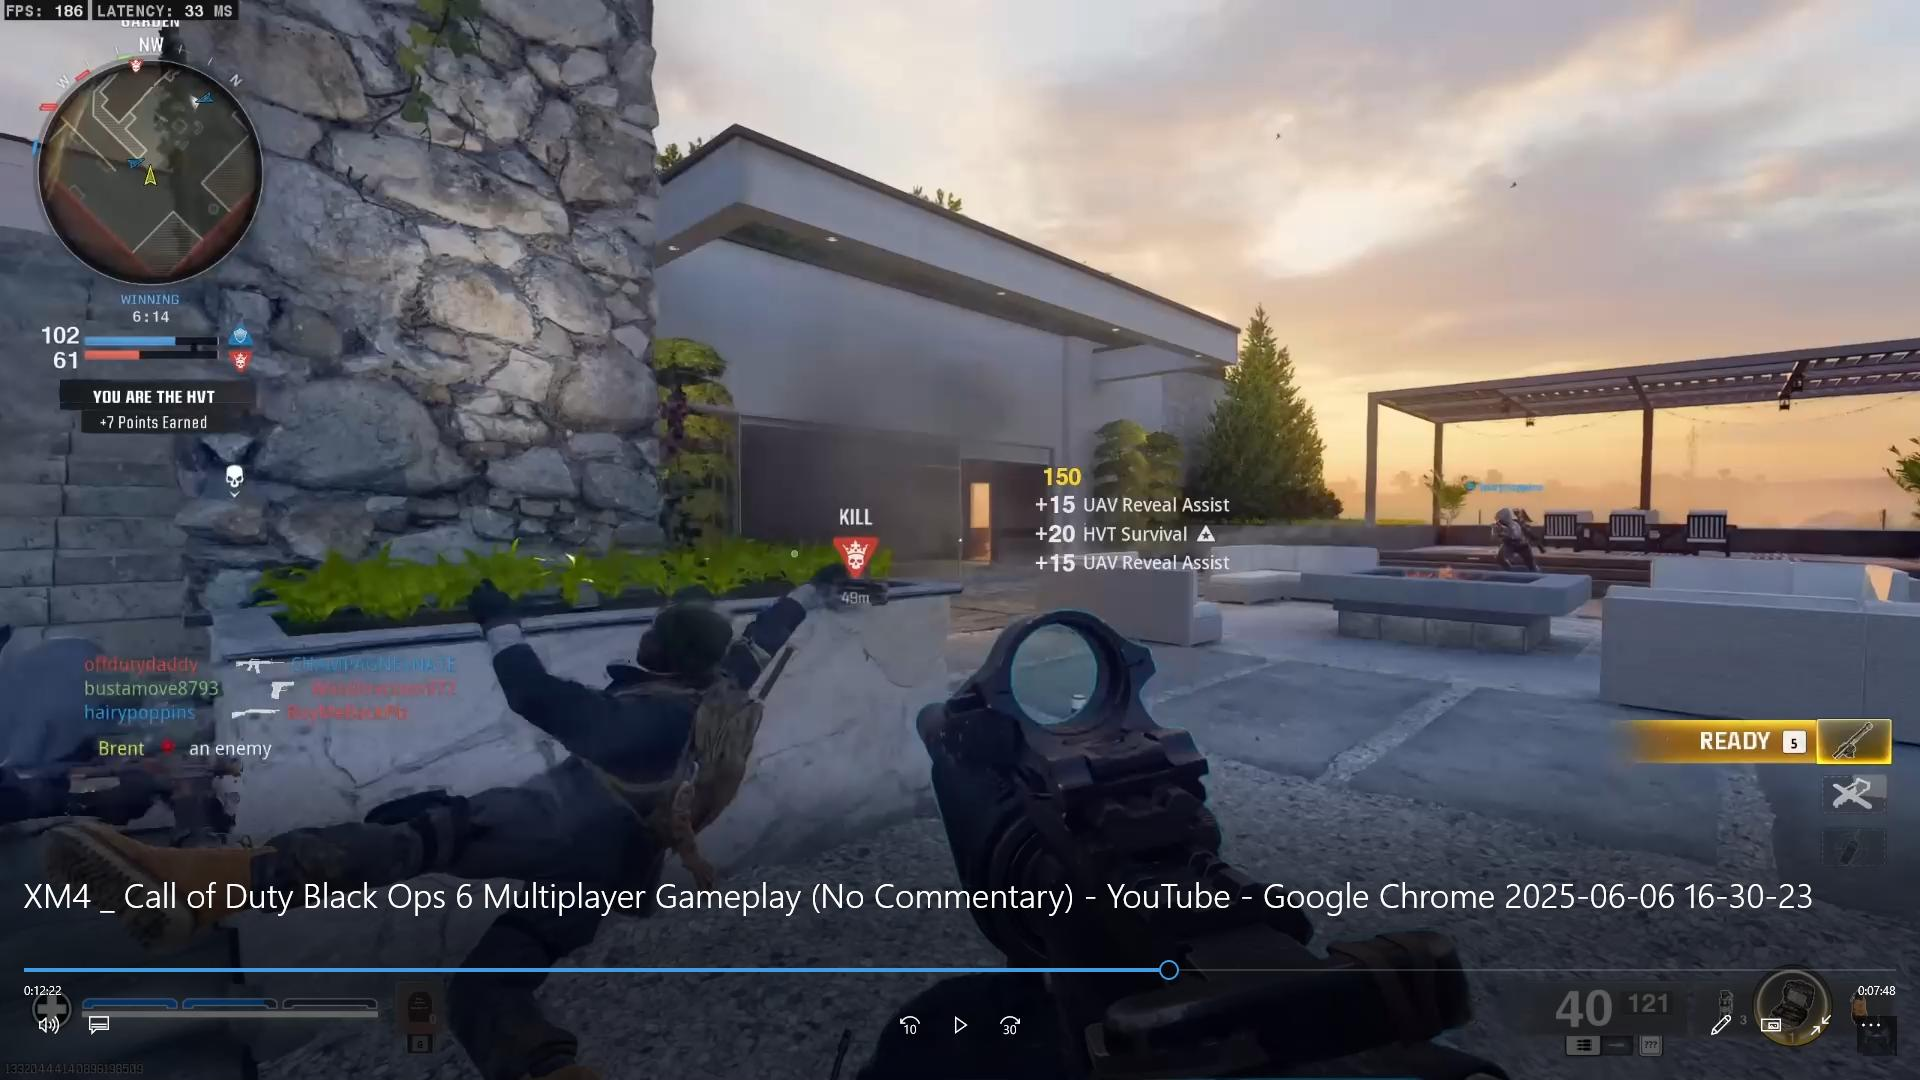Enemy: (1478, 500, 1548, 568)
